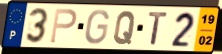2: (169, 10, 197, 50)
3: (25, 7, 49, 45)
G: (83, 9, 110, 46)
P: (48, 8, 78, 45)
Q: (112, 10, 137, 46)
T: (147, 11, 170, 46)
